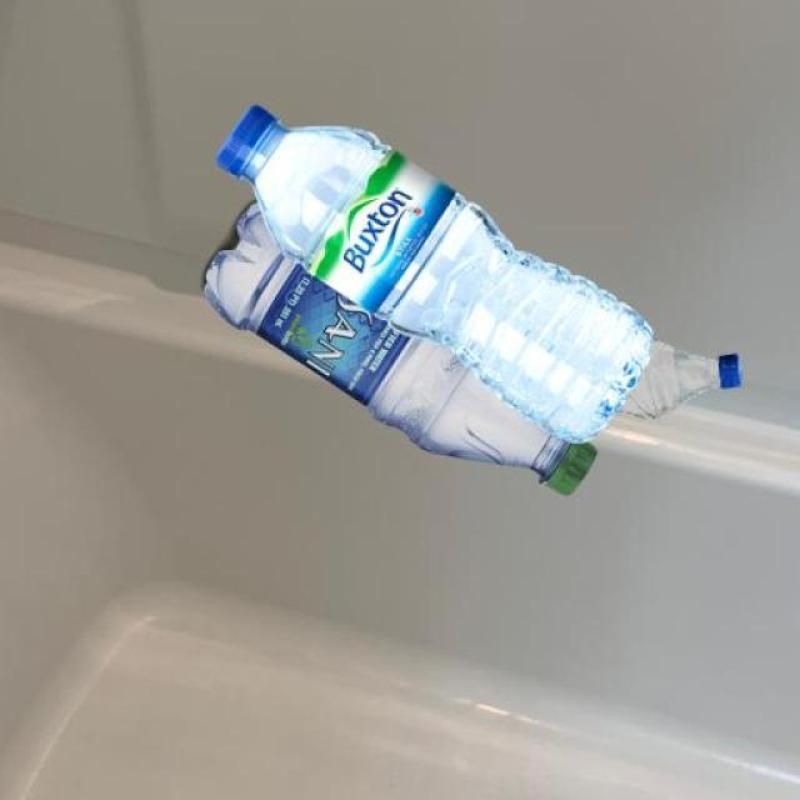botella: (213, 103, 655, 446), (200, 203, 598, 496), (618, 340, 742, 422)
